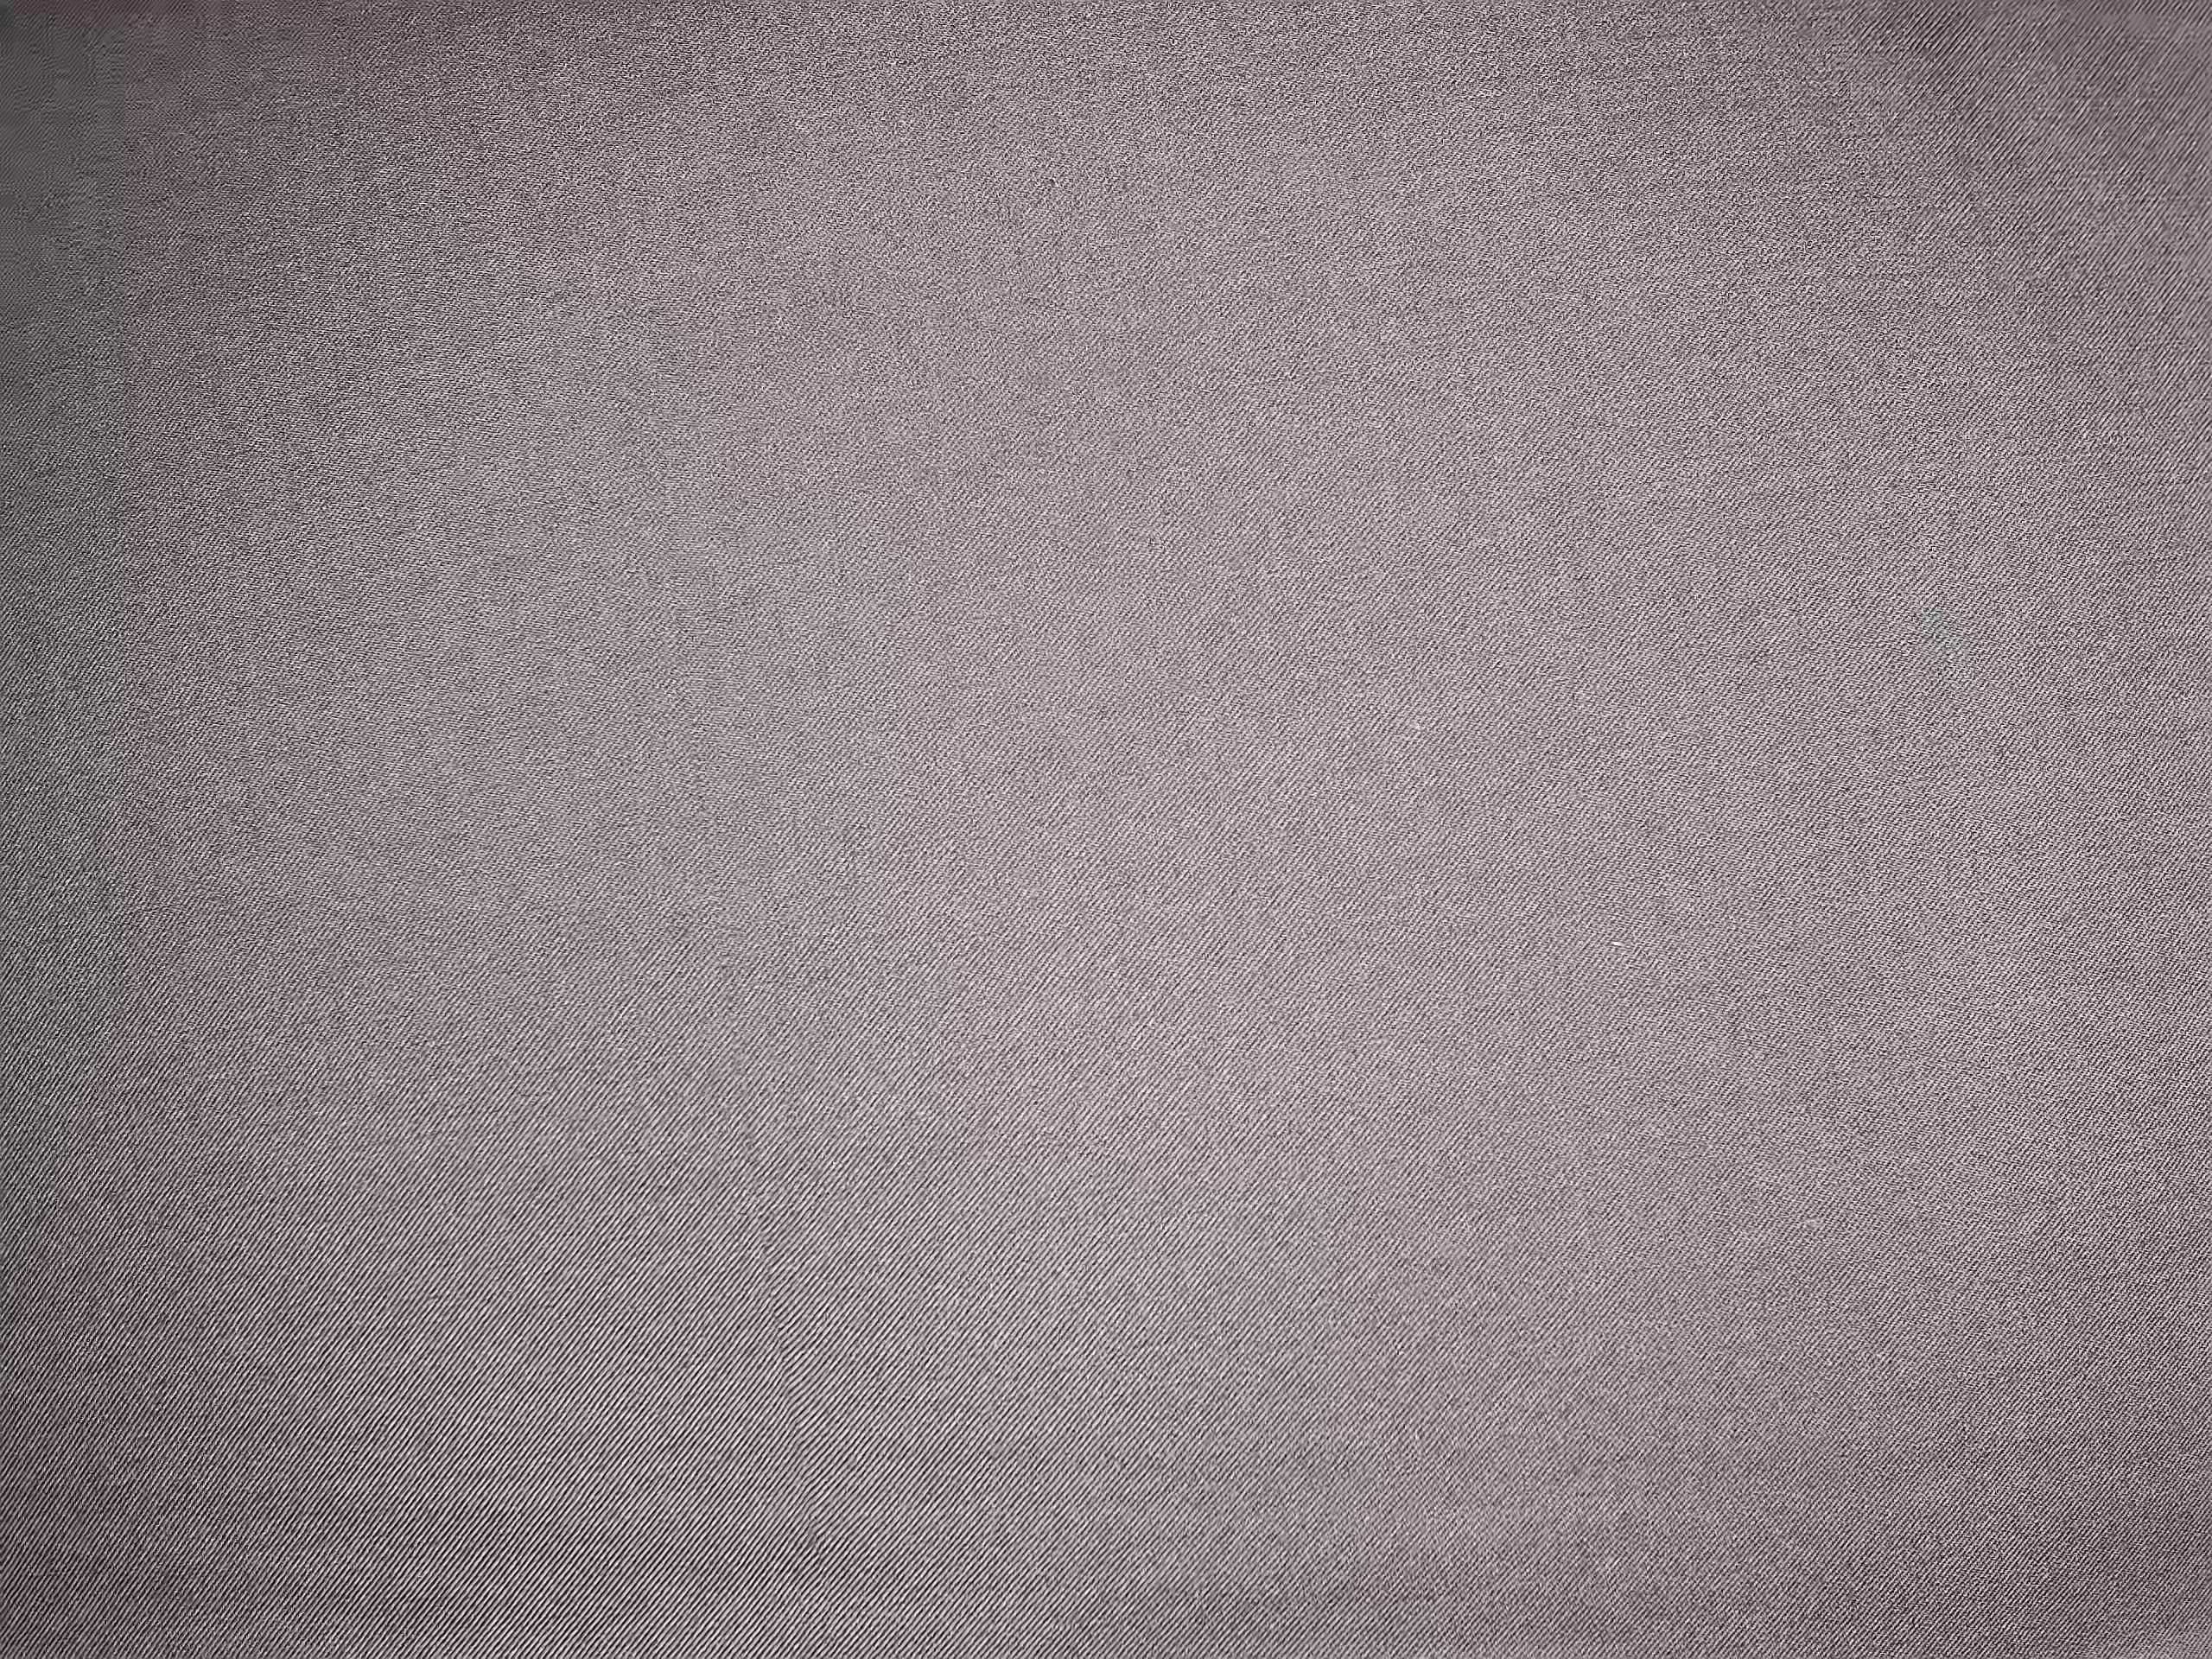hanging-warp: (667, 647, 826, 1561)
